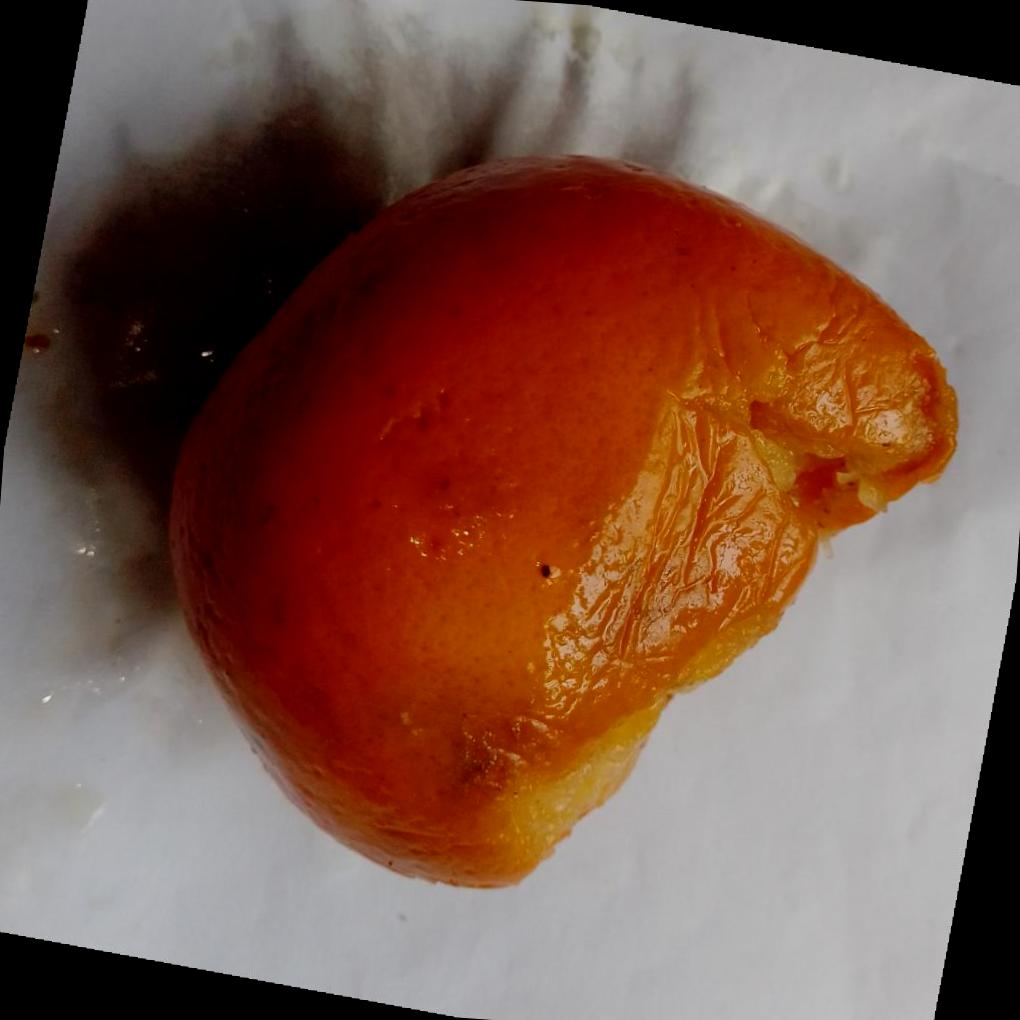FreshOrange: (166, 150, 959, 888)
